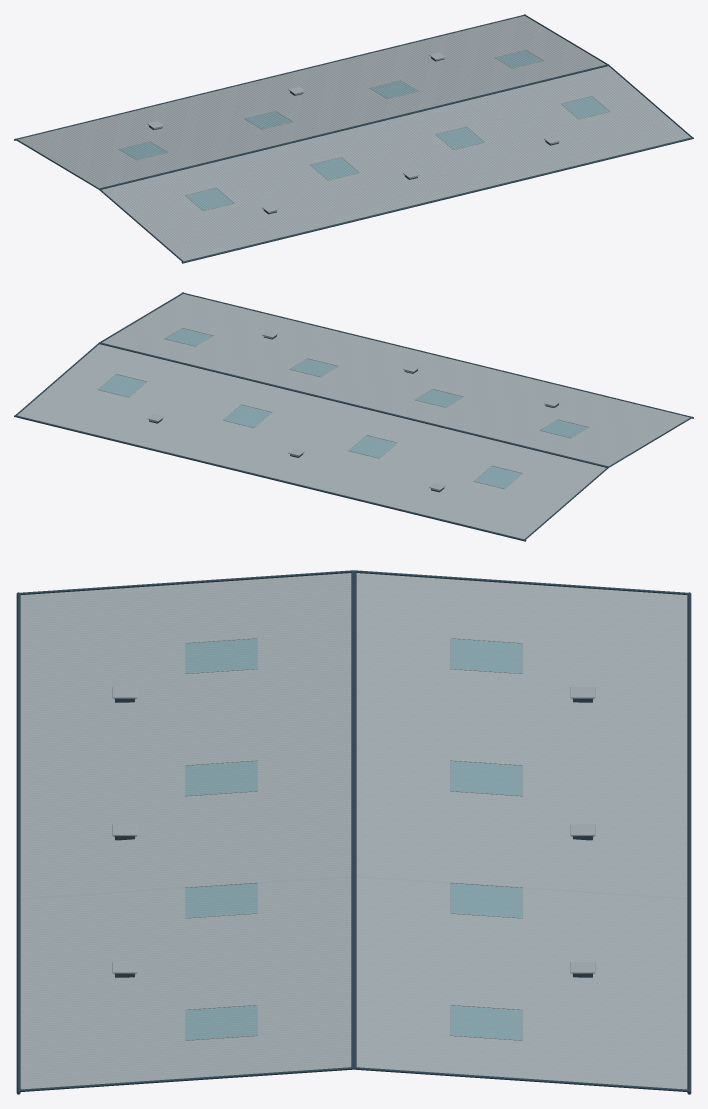
Rendered from SM_WarehouseRoof.fbx.
The picture shows the model from 3 angles, top to bottom: view 1: azimuth 30°, elevation 25°; view 2: azimuth 150°, elevation 25°; view 3: azimuth 270°, elevation 25°; orthographic projection. The views are drawn at different scales.
Parts seen in each view (by area): view 1: SM_WarehouseRoof; view 2: SM_WarehouseRoof; view 3: SM_WarehouseRoof.
Part boxes in pixels (box(x1,y1,x2,y2)): SM_WarehouseRoof: box(14, 14, 693, 263); SM_WarehouseRoof: box(14, 292, 693, 541); SM_WarehouseRoof: box(16, 570, 691, 1094).
Size of the model in its own units: 9800 by 5598 by 242.
